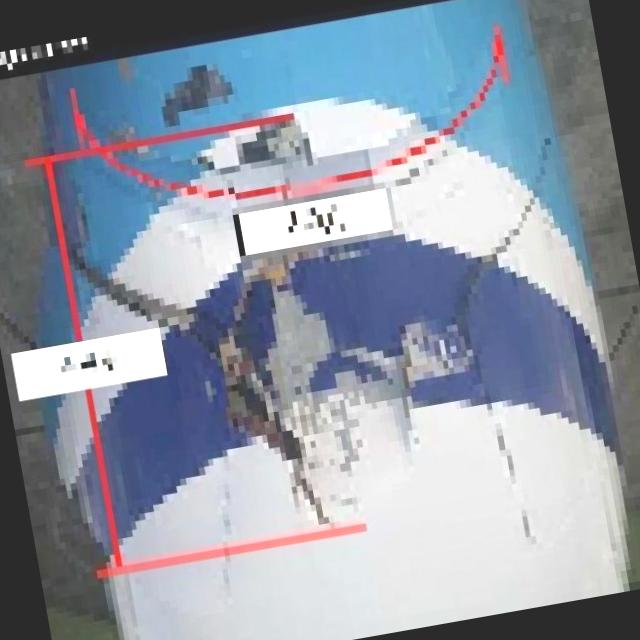crack: (62, 199, 330, 556)
